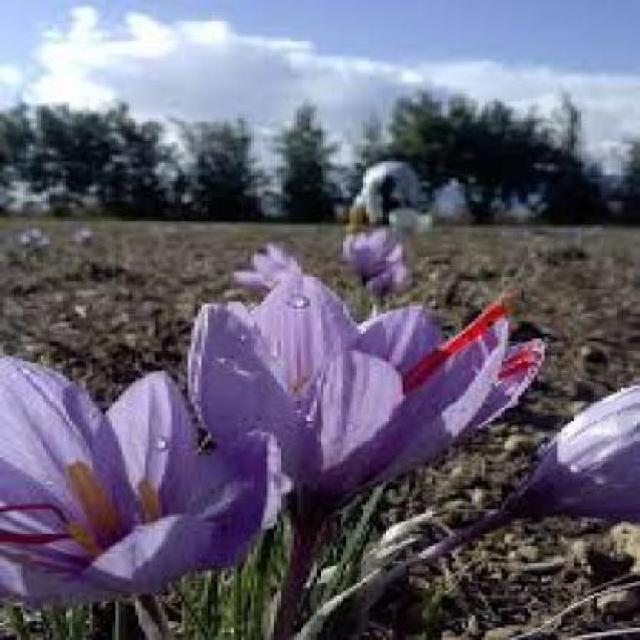Flower: (198, 266, 533, 531), (0, 342, 286, 620), (467, 378, 640, 579)
stigma: (393, 292, 516, 395), (0, 526, 69, 548), (1, 499, 66, 521)
